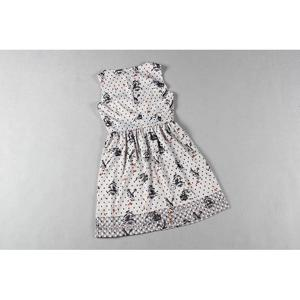C_dress: (83, 59, 239, 239)
